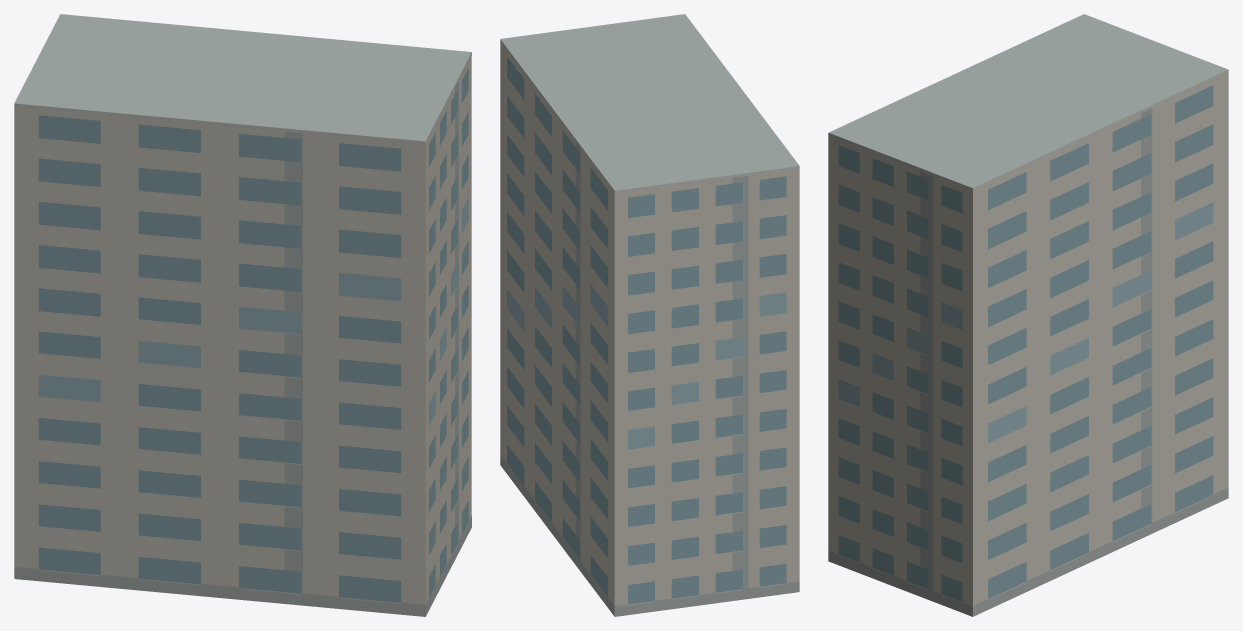
The model's file is residential-3b0106e5-226a-4a91-b505-25e1aec6a1de.glb.
The picture shows the model from 3 angles, left to right: view 1: azimuth 30°, elevation 25°; view 2: azimuth 150°, elevation 25°; view 3: azimuth 270°, elevation 25°; orthographic projection. The views are drawn at different scales.
Parts seen in each view (by area): view 1: residential-3b0106e5-226a-4a91-b505-25e1aec6a1de.tmp; view 2: residential-3b0106e5-226a-4a91-b505-25e1aec6a1de.tmp; view 3: residential-3b0106e5-226a-4a91-b505-25e1aec6a1de.tmp.
Part boxes in pixels (box(x1,y1,x2,y2)): residential-3b0106e5-226a-4a91-b505-25e1aec6a1de.tmp: box(14, 14, 471, 616); residential-3b0106e5-226a-4a91-b505-25e1aec6a1de.tmp: box(500, 14, 799, 616); residential-3b0106e5-226a-4a91-b505-25e1aec6a1de.tmp: box(828, 14, 1228, 616).
Size of the model in its own units: 29.24 by 33.55 by 28.38.
